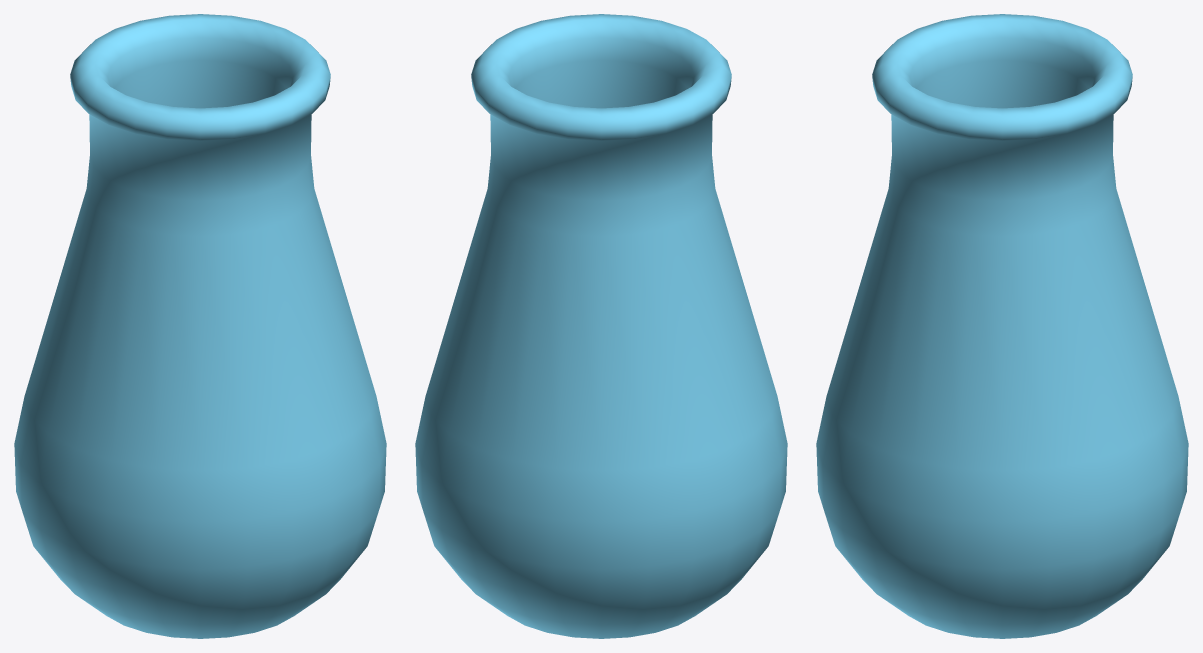
Rendered from Flask, Kjeldahl, Wide Mouth.fbx.
3 renders of one model, left to right at view 1: azimuth 30°, elevation 25°; view 2: azimuth 150°, elevation 25°; view 3: azimuth 270°, elevation 25°, orthographic.
Parts seen in each view (by area): view 1: Flask, Kjeldahl, Wide Mouth_LOD0; view 2: Flask, Kjeldahl, Wide Mouth_LOD0; view 3: Flask, Kjeldahl, Wide Mouth_LOD0.
Boxes of the visible parts, x1,y1,x2,y2 form: Flask, Kjeldahl, Wide Mouth_LOD0: [14, 14, 386, 638]; Flask, Kjeldahl, Wide Mouth_LOD0: [415, 14, 787, 638]; Flask, Kjeldahl, Wide Mouth_LOD0: [816, 14, 1188, 638].
Size of what is drawn, in the model's own units: 0.5778 by 0.9605 by 0.5778.
